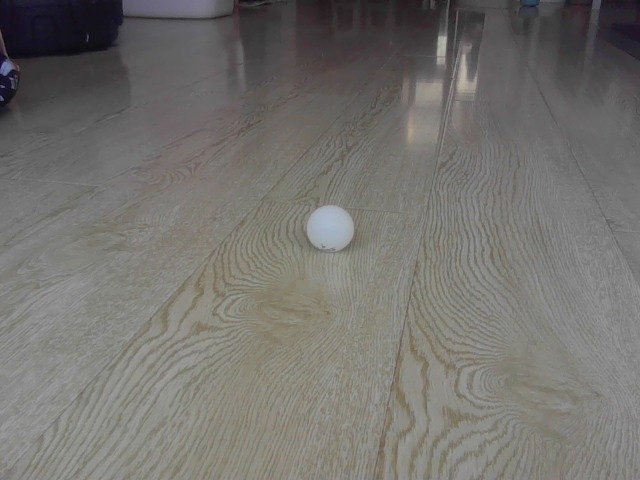ball: (307, 202, 356, 248)
